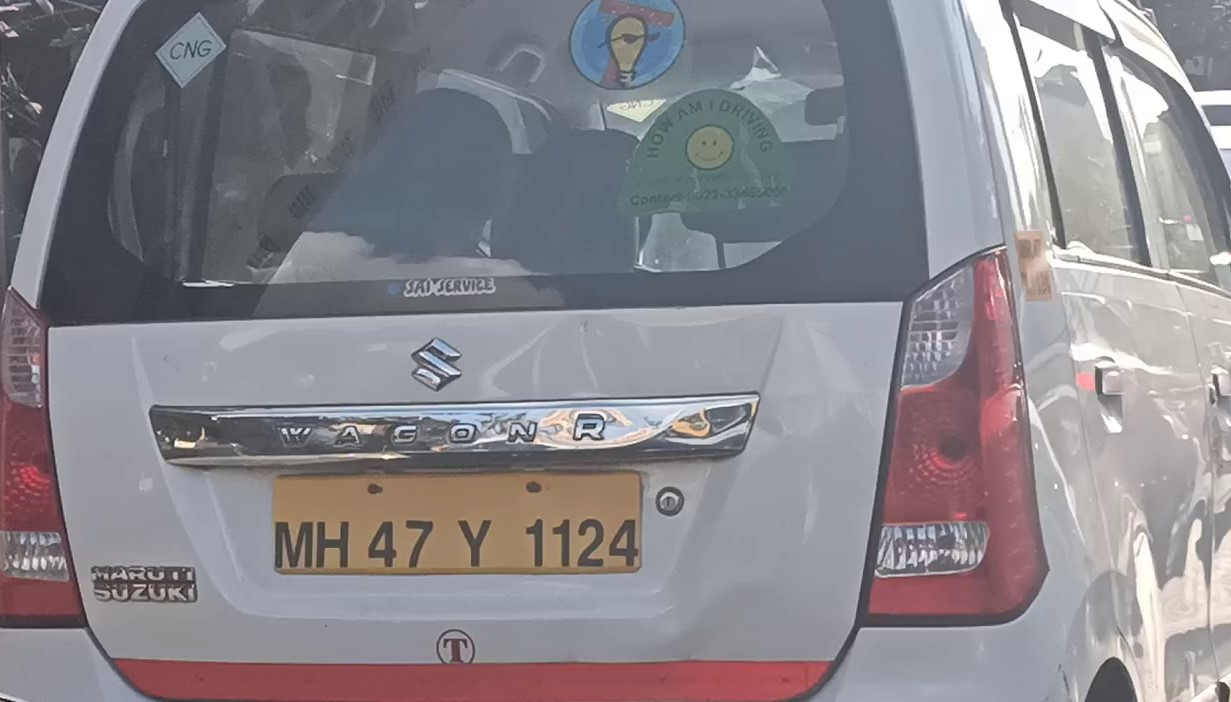MH47Y1124: (272, 470, 645, 575)
